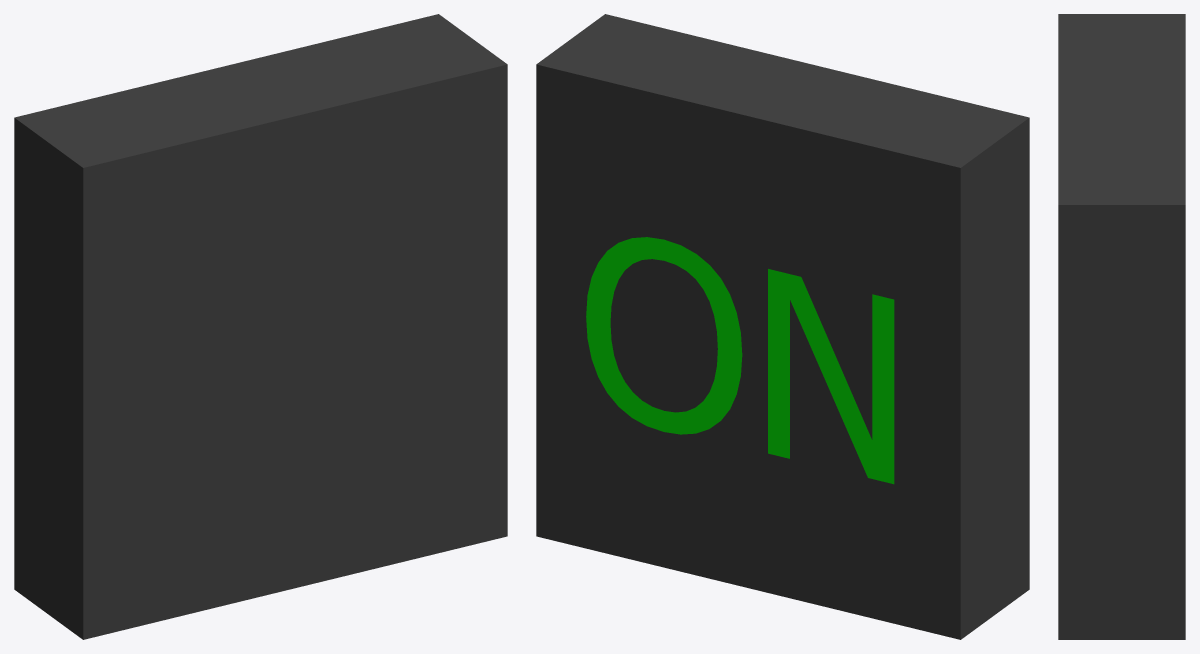
File: hcp-onoff.fbx
3 views of the same model, side by side, from view 1: azimuth 30°, elevation 25°; view 2: azimuth 150°, elevation 25°; view 3: azimuth 270°, elevation 25° (orthographic). The views are drawn at different scales.
Parts seen in each view (by area): view 1: Group1; view 2: Group1; view 3: Group1.
Part boxes in pixels (x1,y1,x2,y2): Group1: (14,14,507,639); Group1: (536,14,1029,639); Group1: (1058,14,1185,639).
Size of the model in its own units: 1.6 by 1.7 by 0.45.
